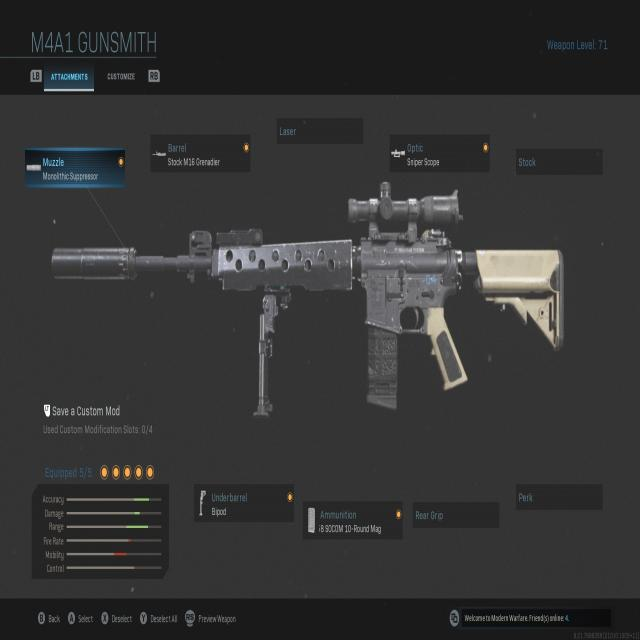Rifle: (53, 184, 565, 410)
